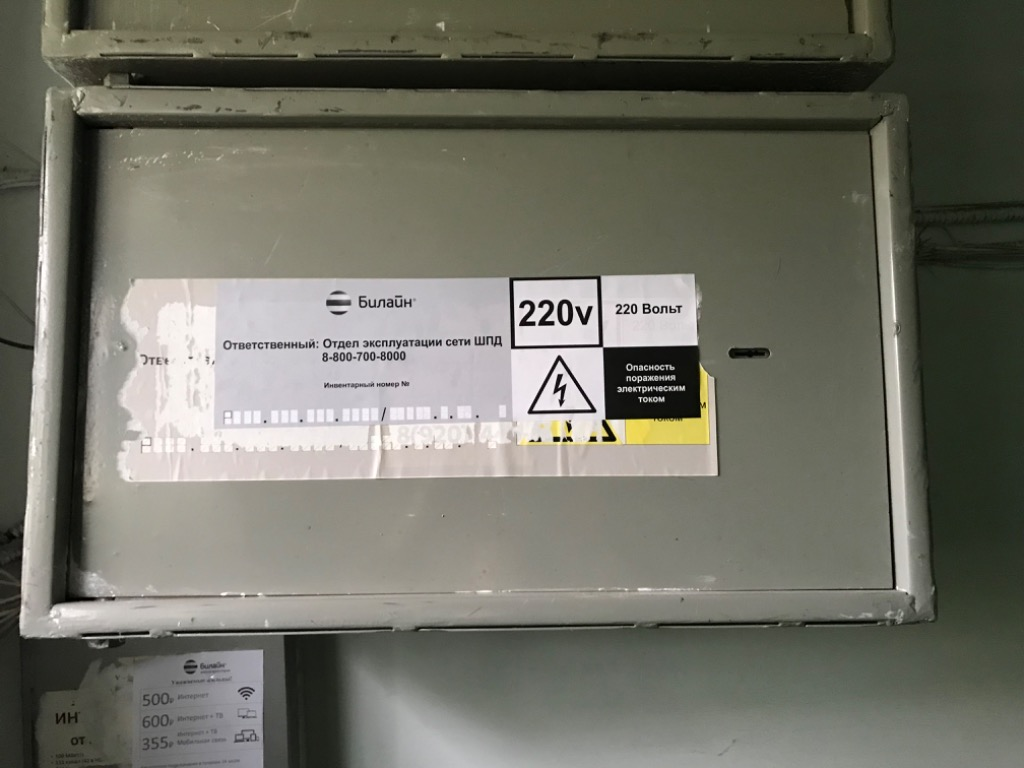e2-6u: (13, 78, 941, 637)
